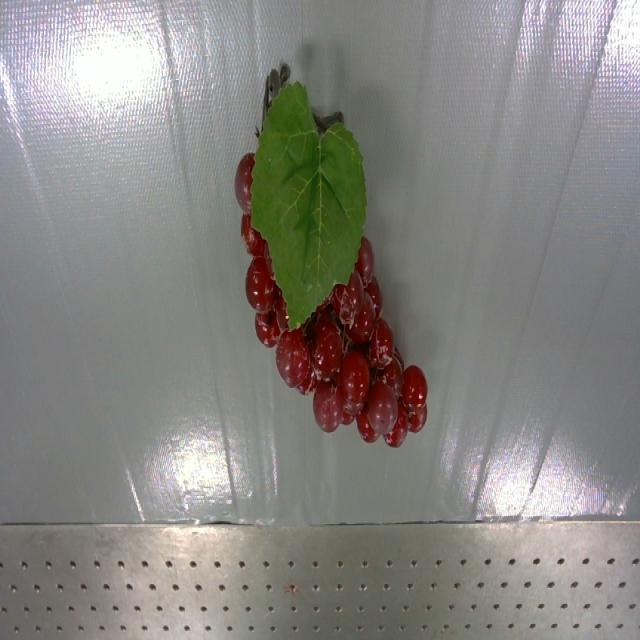grape: (235, 66, 428, 448)
